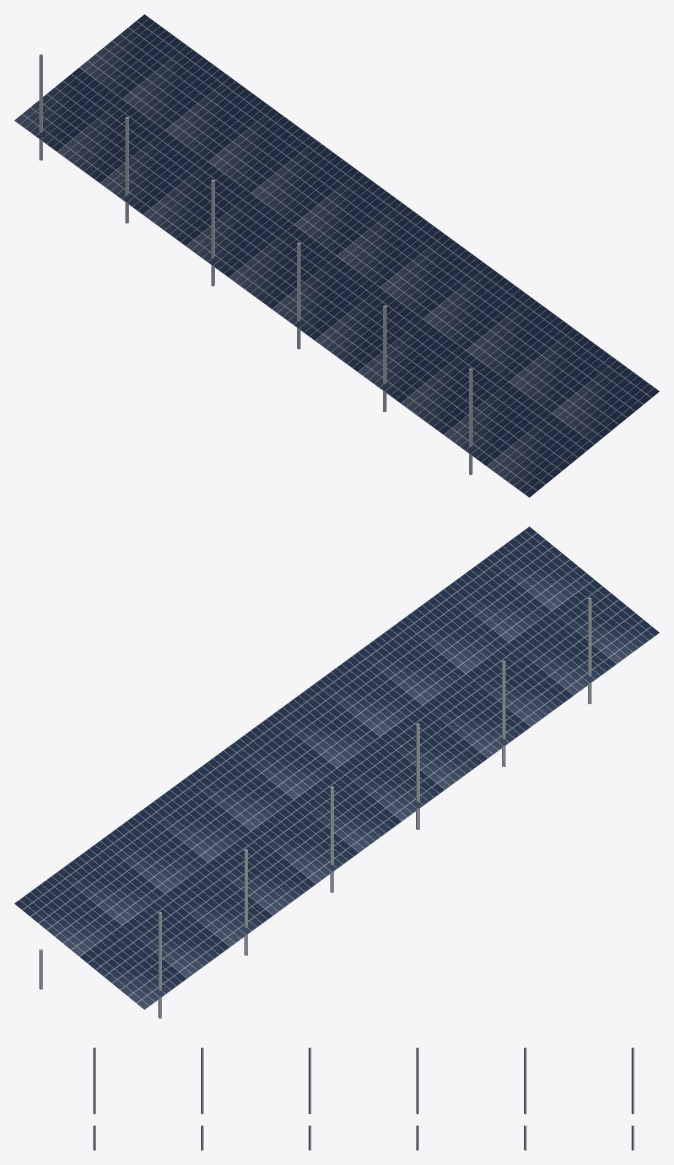
Rendered from solar_array_24m.glb.
3 renders of one model, top to bottom at view 1: azimuth 30°, elevation 25°; view 2: azimuth 150°, elevation 25°; view 3: azimuth 270°, elevation 25°, orthographic. The views are drawn at different scales.
Visible parts, largest first — view 1: solar; view 2: solar; view 3: solar.
Part boxes in pixels (left/top/right/bottom): solar: left=14, top=14, right=659, bottom=497; solar: left=14, top=526, right=659, bottom=1018; solar: left=93, top=1047, right=634, bottom=1150.
Size of the model in its own units: 3.51 by 2.7 by 24.
2 materials, 1 textured.
